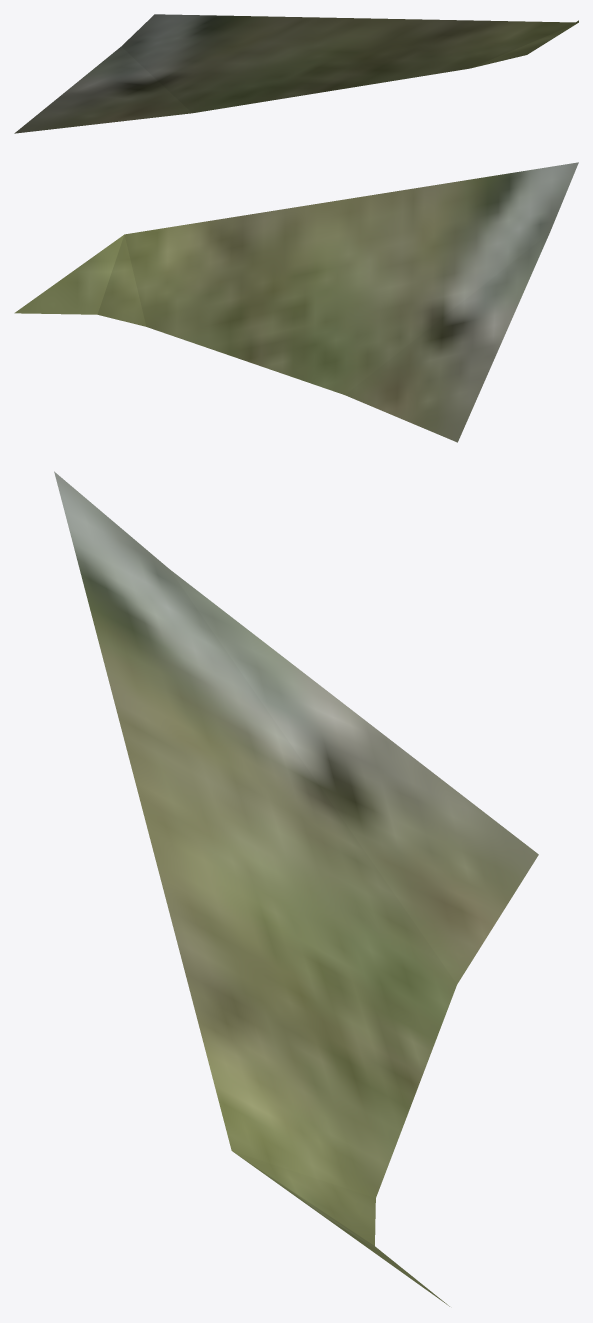
The picture shows the model from 3 angles, top to bottom: view 1: azimuth 30°, elevation 25°; view 2: azimuth 150°, elevation 25°; view 3: azimuth 270°, elevation 25°; orthographic projection. The views are drawn at different scales.
Size of the model in its own units: 4.1 by 1.61 by 1.85.
1 material, 1 textured.
